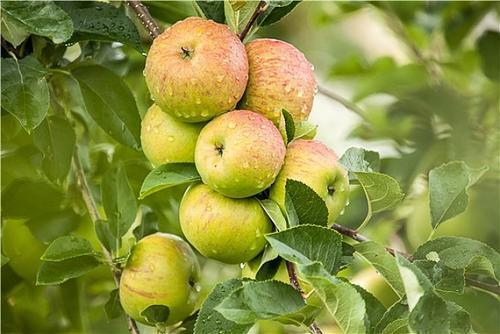apple: (140, 12, 248, 119), (195, 108, 286, 198), (178, 181, 273, 263), (117, 232, 202, 323), (239, 37, 317, 125), (277, 137, 350, 228), (140, 107, 197, 170)
